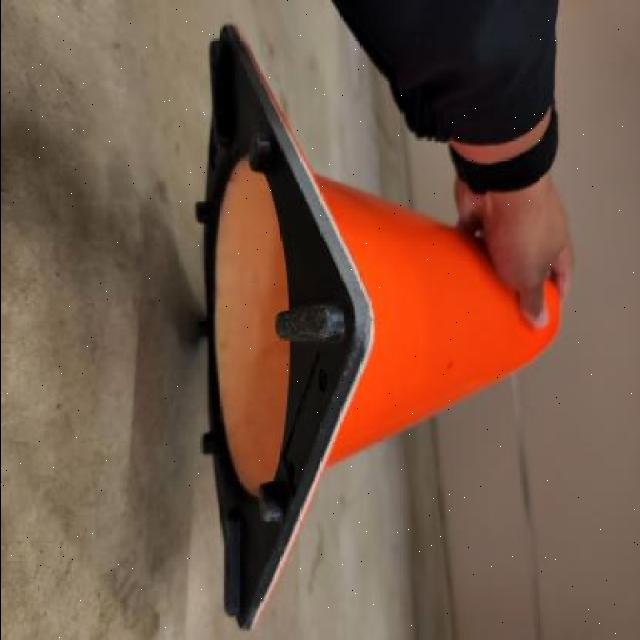traffic cone: (190, 16, 577, 639)
